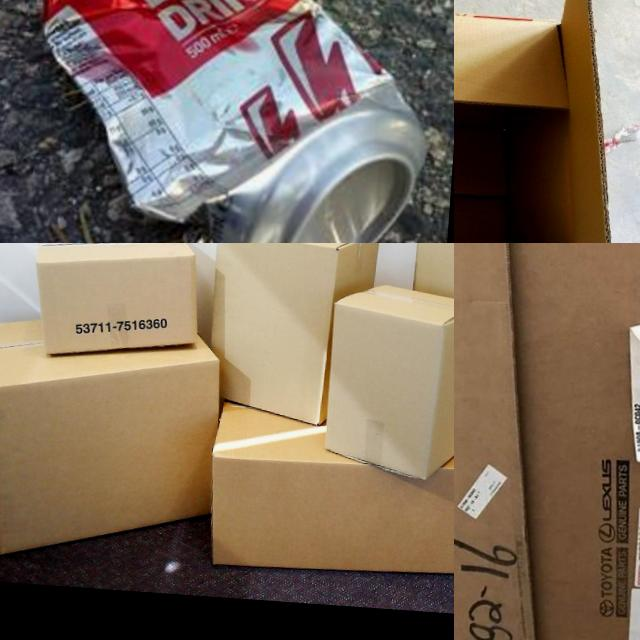lata: (6, 0, 446, 243)
papelão: (454, 243, 640, 640), (0, 298, 227, 572), (204, 399, 454, 588), (454, 0, 640, 243), (202, 243, 381, 429), (320, 278, 454, 485), (27, 243, 205, 365), (401, 243, 454, 454)
